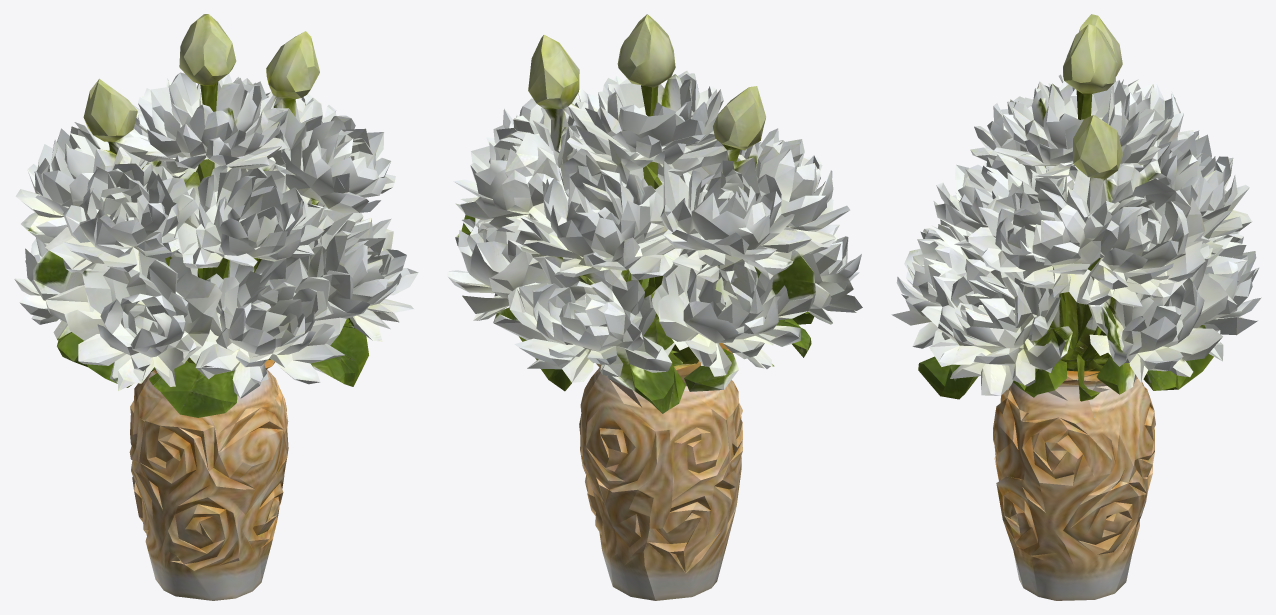
File: w3hlotusvase.glb
3 views of the same model, side by side, from view 1: azimuth 30°, elevation 25°; view 2: azimuth 150°, elevation 25°; view 3: azimuth 270°, elevation 25° (orthographic).
Visible parts, largest first — view 1: output_unwrapped; view 2: output_unwrapped; view 3: output_unwrapped.
Boxes of the visible parts, x1,y1,x2,y2 form: output_unwrapped: (14, 14, 418, 600); output_unwrapped: (447, 14, 862, 600); output_unwrapped: (891, 14, 1261, 600).
Bounding box in the file's own units: 0.3537 × 0.55 × 0.33.
Materials: 1 (1 with a texture image).
